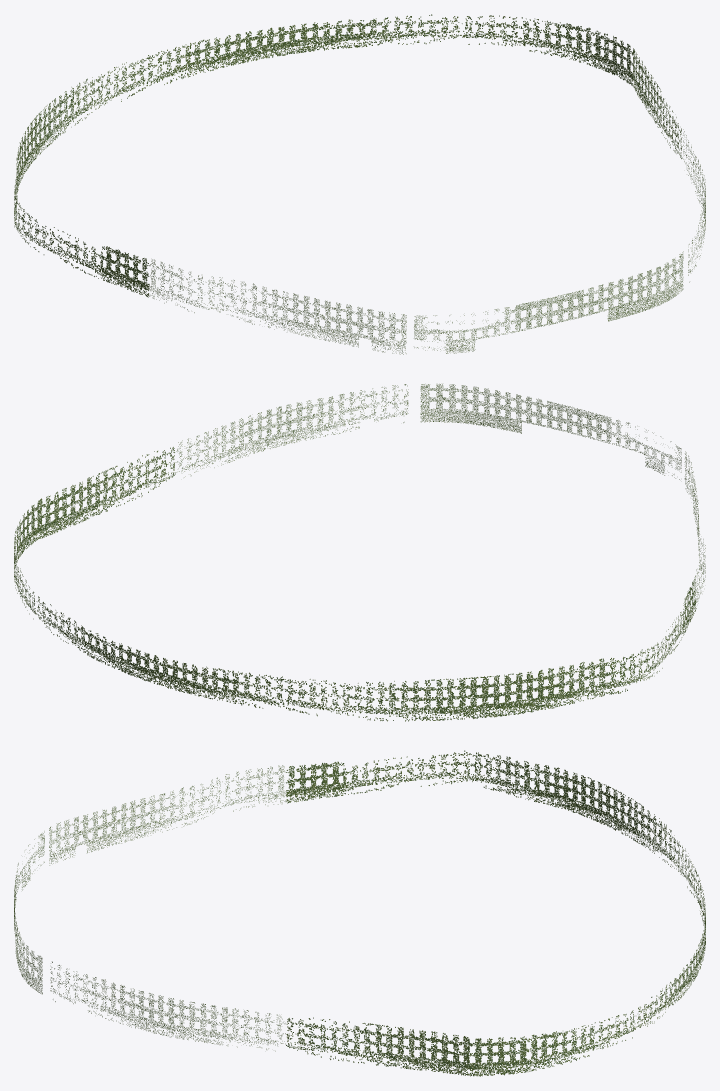
File: r15_ivy_hi.glb
The picture shows the model from 3 angles, top to bottom: view 1: azimuth 30°, elevation 25°; view 2: azimuth 150°, elevation 25°; view 3: azimuth 270°, elevation 25°; orthographic projection. The views are drawn at different scales.
Parts seen in each view (by area): view 1: ivy_hi; view 2: ivy_hi; view 3: ivy_hi.
Part boxes in pixels (x1,y1,x2,y2): ivy_hi: (14, 14, 705, 354); ivy_hi: (14, 384, 705, 721); ivy_hi: (14, 750, 705, 1076).
Size of the model in its own units: 228 by 15.33 by 229.
